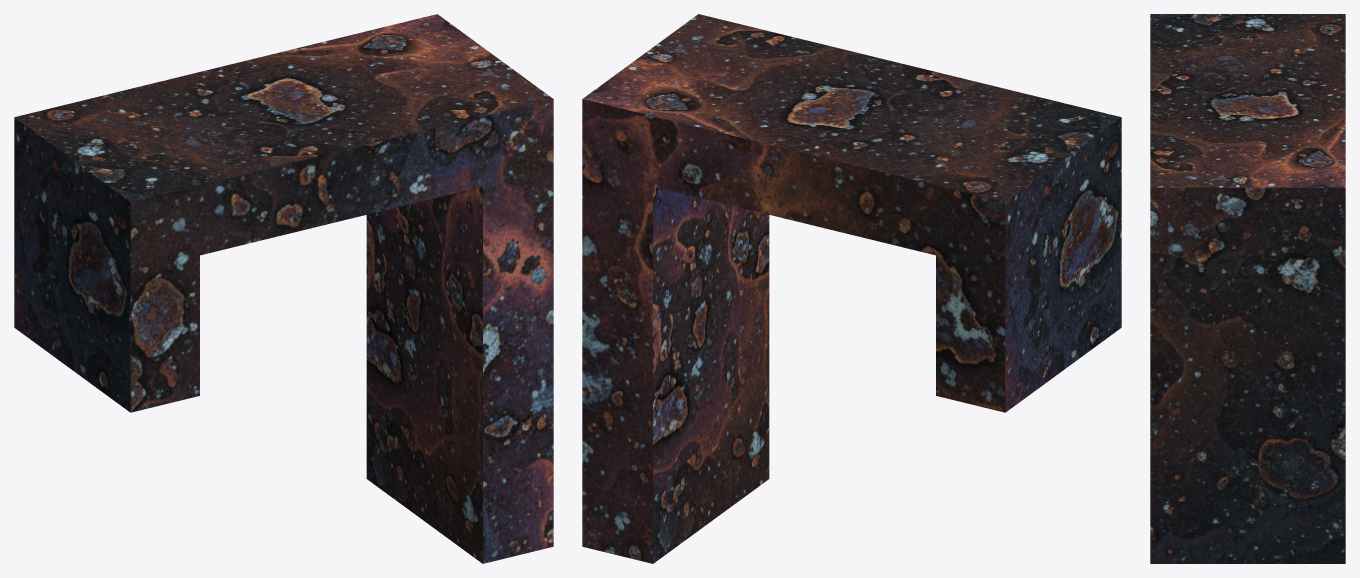
The model's file is SpaceDebris2.fbx.
3 renders of one model, left to right at view 1: azimuth 30°, elevation 25°; view 2: azimuth 150°, elevation 25°; view 3: azimuth 270°, elevation 25°, orthographic. The views are drawn at different scales.
Parts seen in each view (by area): view 1: Cube; view 2: Cube; view 3: Cube.
Part boxes in pixels (<box>): Cube: <box>14,14,553,563</box>; Cube: <box>582,14,1121,563</box>; Cube: <box>1150,14,1345,563</box>.
Bounding box in the file's own units: 421 × 425 × 200.
